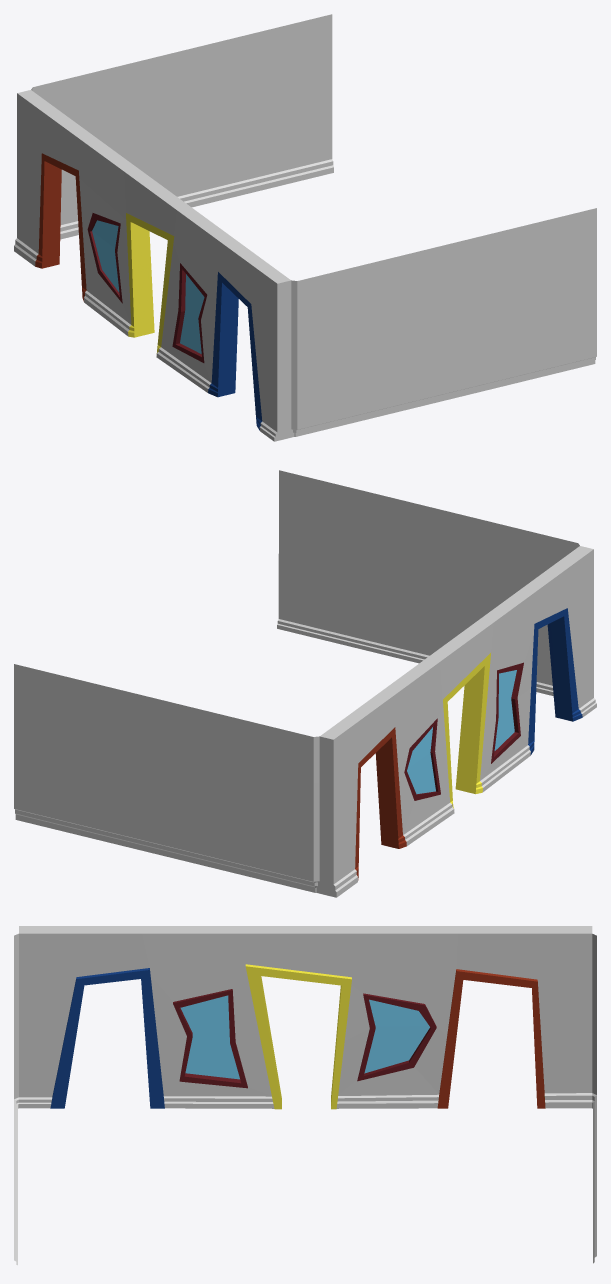
The model's file is Mur_V1.fbx.
3 renders of one model, top to bottom at view 1: azimuth 30°, elevation 25°; view 2: azimuth 150°, elevation 25°; view 3: azimuth 270°, elevation 25°, orthographic. The views are drawn at different scales.
Visible parts, largest first — view 1: Mur.côté_V1, Mur_Porte_V1; view 2: Mur.côté_V1, Mur_Porte_V1; view 3: Mur_Porte_V1, Mur.côté_V1.
Part boxes in pixels (x1,y1,x2,y2): Mur.côté_V1: (32, 14, 596, 436); Mur_Porte_V1: (14, 88, 297, 441); Mur.côté_V1: (14, 470, 578, 892); Mur_Porte_V1: (313, 543, 596, 897); Mur_Porte_V1: (14, 926, 596, 1109); Mur.côté_V1: (14, 1095, 596, 1265).
Bounding box in the file's own units: 1072 × 500 × 1526.
